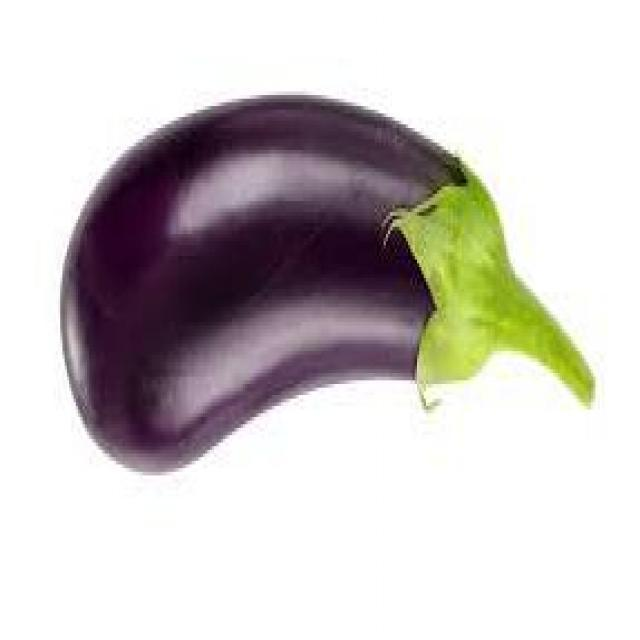eggplant: (52, 76, 602, 516)
